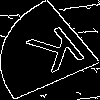K: (25, 25, 95, 82)
